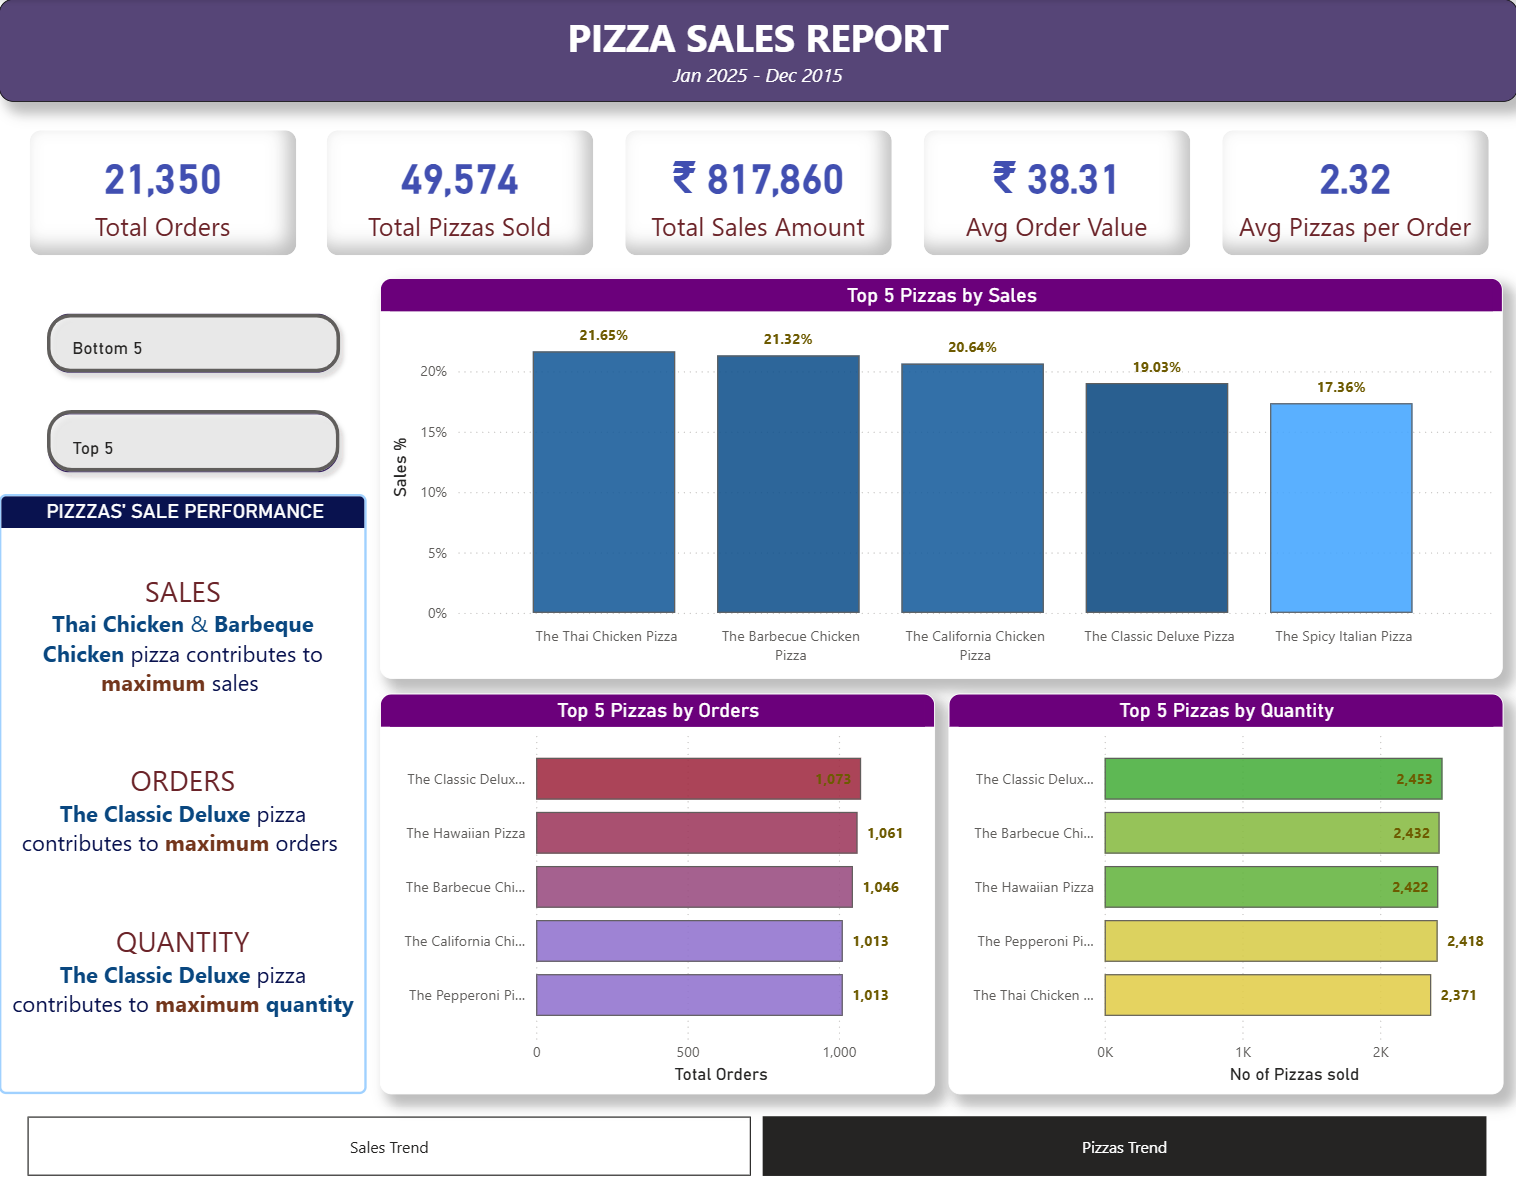

The dashboard page shown, as its layout file describes it:
{"tool":"powerbi","page":{"name":"Pizzas Trend","canvas":[1280,1000],"ordinal":1},"visuals":[{"type":"textbox","box":[0,0,1281,86.7],"z":0},{"type":"card","fields":{"Values":["Sum(pizza_sales (1).total_orders)"]},"box":[25.5,110.1,226,106.6],"z":1000},{"type":"card","fields":{"Values":["Sum(pizza_sales (1).quantity)"]},"box":[275.8,110.1,226,106.6],"z":2000},{"type":"card","fields":{"Values":["pizza_sales (1).Avg Pizzas per Order"]},"box":[1031.3,110.1,226,106.6],"z":3000},{"type":"card","fields":{"Values":["pizza_sales (1).Avg Order value"]},"box":[778.7,110.1,226,106.6],"z":4000},{"type":"card","fields":{"Values":["pizza_sales (1).Revenue"]},"box":[527.2,110.1,226,106.6],"z":5000},{"type":"columnChart","title":"Top 5 Pizzas by Sales","fields":{"Category":["pizza_sales (1).pizza_name"],"Y":["pizza_sales (1).Sales %"]},"box":[321.7,234.8,946.4,337.7],"z":7000},{"type":"pageNavigator","box":[24.6,942,1231.9,50.7],"z":9000},{"type":"textbox","title":"PIZZZAS'' SALE PERFORMANCE","box":[0,417.4,310.1,505.8],"z":10000},{"type":"barChart","title":"Top 5 Pizzas by Orders","fields":{"Category":["pizza_sales (1).pizza_name"],"Y":["Sum(pizza_sales (1).total_orders)"]},"box":[321.7,585.5,468.1,337.7],"z":12000},{"type":"barChart","title":"Top 5 Pizzas by Quantity","fields":{"Category":["pizza_sales (1).pizza_name"],"Y":["Sum(pizza_sales (1).quantity)"]},"box":[800,585.5,468.1,337.7],"z":15000},{"type":"advancedSlicerVisual","fields":{"Values":["Table.Filter"]},"box":[24,247.9,279.5,169.5],"z":16000},{"type":"actionButton","box":[40.5,346.5,246.6,51.9],"z":17000},{"type":"actionButton","box":[40.7,265.5,247.2,49.2],"z":17001}]}

Visuals, with their boxes in screenshot pixels (x1, y1, x2, y2), scaled from the page's 1280x1000 canvas onto the 1516x1183 screenshot:
textbox: (left=0, top=0, right=1515, bottom=103)
card - Sum(pizza_sales (1).total_orders): (left=30, top=130, right=298, bottom=256)
card - Sum(pizza_sales (1).quantity): (left=327, top=130, right=594, bottom=256)
card - pizza_sales (1).Avg Pizzas per Order: (left=1221, top=130, right=1489, bottom=256)
card - pizza_sales (1).Avg Order value: (left=922, top=130, right=1190, bottom=256)
card - pizza_sales (1).Revenue: (left=624, top=130, right=892, bottom=256)
"Top 5 Pizzas by Sales" columnChart: (left=381, top=278, right=1502, bottom=677)
pageNavigator: (left=29, top=1114, right=1488, bottom=1174)
"PIZZZAS'' SALE PERFORMANCE" textbox: (left=0, top=494, right=367, bottom=1092)
"Top 5 Pizzas by Orders" barChart: (left=381, top=693, right=935, bottom=1092)
"Top 5 Pizzas by Quantity" barChart: (left=948, top=693, right=1502, bottom=1092)
advancedSlicerVisual - Table.Filter: (left=28, top=293, right=359, bottom=494)
actionButton: (left=48, top=410, right=340, bottom=471)
actionButton: (left=48, top=314, right=341, bottom=372)
